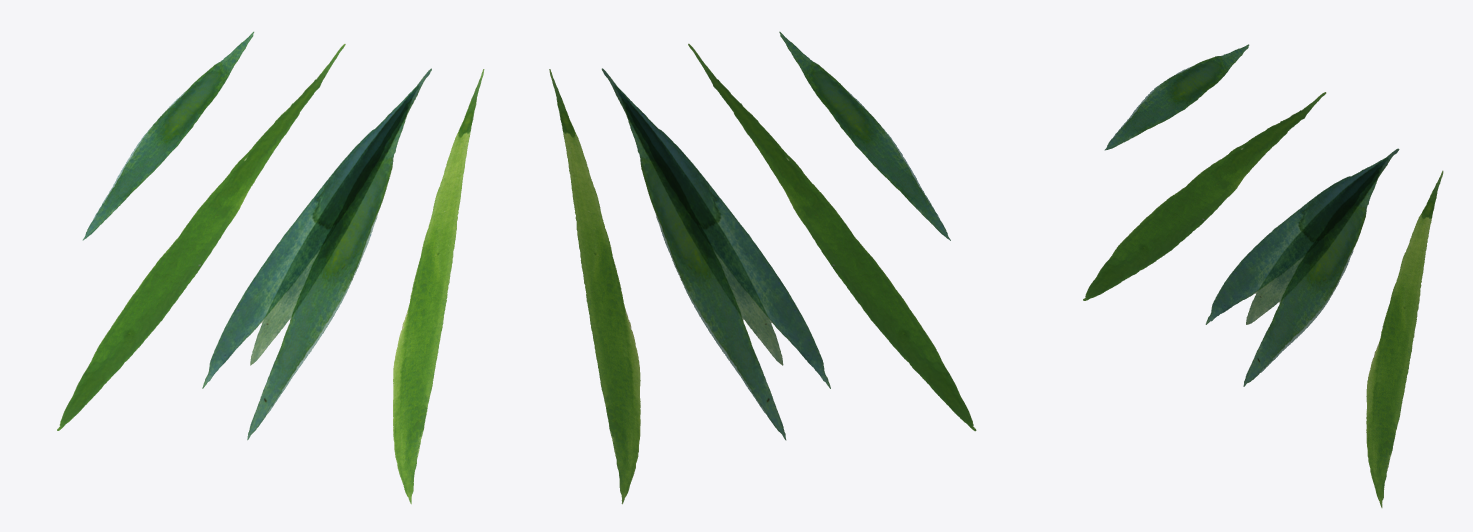
Rendered from Ocell_Branca_Fulles.fbx.
The picture shows the model from 3 angles, left to right: view 1: azimuth 30°, elevation 25°; view 2: azimuth 150°, elevation 25°; view 3: azimuth 330°, elevation 25°; orthographic projection. The views are drawn at different scales.
Parts seen in each view (by area): view 1: Ocell_Branca_Fulles; view 2: Ocell_Branca_Fulles; view 3: Ocell_Branca_Fulles.
Boxes of the visible parts, x1,y1,x2,y2 form: Ocell_Branca_Fulles: (57, 31, 484, 504); Ocell_Branca_Fulles: (549, 31, 976, 504); Ocell_Branca_Fulles: (1083, 44, 1443, 507).
Size of the model in its own units: 1562 by 1665 by 1.12.
